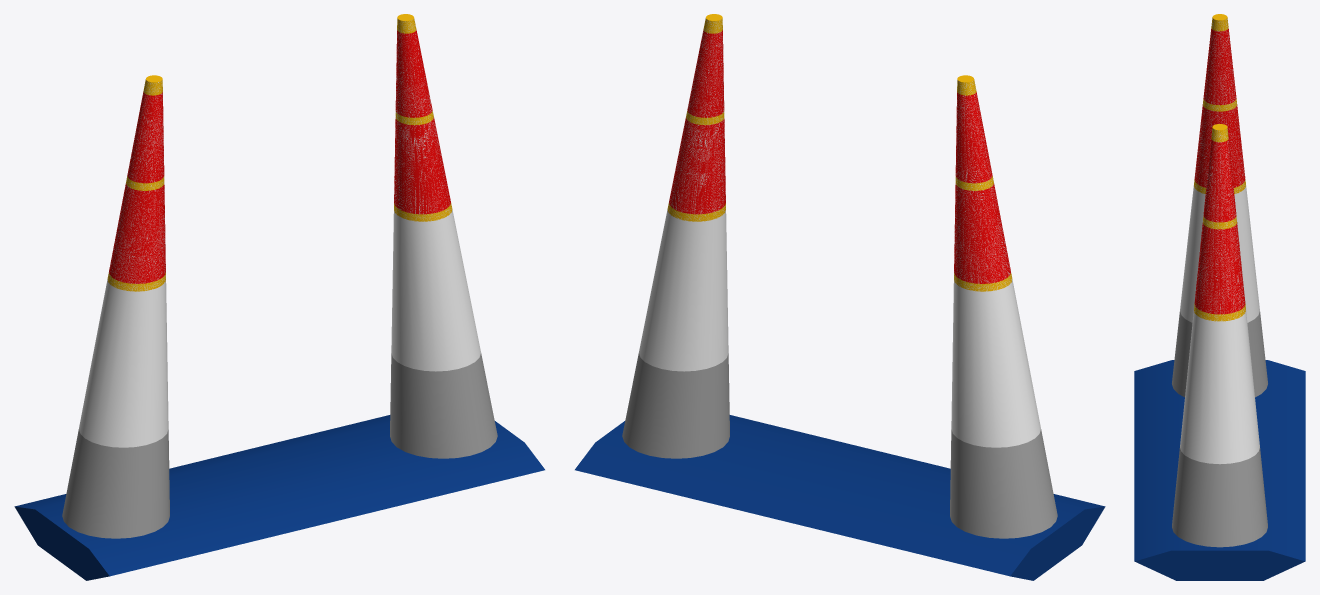
The model's file is Gate.dae.
The picture shows the model from 3 angles, left to right: view 1: azimuth 30°, elevation 25°; view 2: azimuth 150°, elevation 25°; view 3: azimuth 270°, elevation 25°; orthographic projection. The views are drawn at different scales.
Visible parts, largest first — view 1: Gate, Difference1 (×2), Intersection (×2), group_4 (×2), group_3 (×2); view 2: Gate, Difference1 (×2), Intersection (×2), group_4 (×2), group_3 (×2); view 3: Gate, Difference1 (×2), Intersection (×2), group_4 (×2), group_3 (×2), group_2 (×2), group_0.
Boxes of the visible parts, x1,y1,x2,y2 form: Gate: (14,415,544,580); Difference1 (×2): (79,209,480,447); Intersection (×2): (62,353,497,538); group_4 (×2): (109,118,450,283); group_3 (×2): (127,30,432,183); Gate: (575,415,1105,580); Difference1 (×2): (639,209,1040,447); Intersection (×2): (622,353,1057,538); group_4 (×2): (669,118,1010,283); group_3 (×2): (687,30,992,183); Gate: (1134,360,1305,580); Difference1 (×2): (1180,185,1259,464); Intersection (×2): (1172,311,1267,547); group_4 (×2): (1194,105,1245,314); group_3 (×2): (1203,28,1236,222); group_2 (×2): (1202,98,1237,229); group_0: (1194,304,1245,321).
Size of the model in its own units: 949 by 360 by 961.
